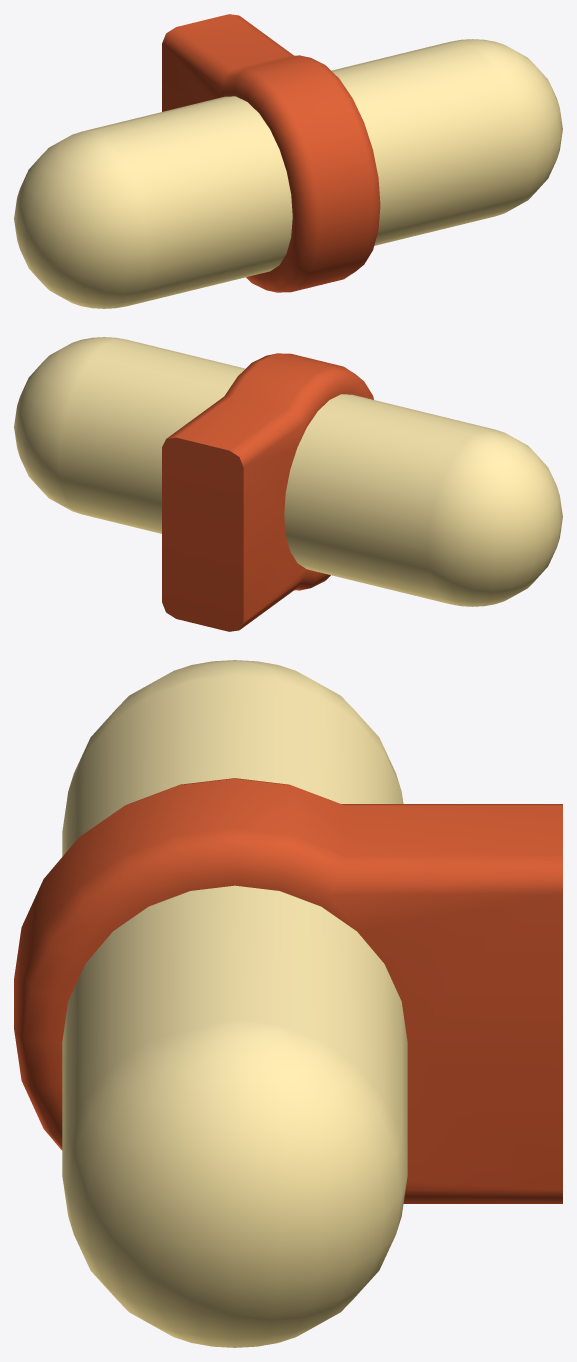
File: Light_16.glb
3 renders of one model, top to bottom at view 1: azimuth 30°, elevation 25°; view 2: azimuth 150°, elevation 25°; view 3: azimuth 270°, elevation 25°, orthographic. The views are drawn at different scales.
Visible parts, largest first — view 1: Light_16; view 2: Light_16; view 3: Light_16.
Boxes of the visible parts, left/top/right/bottom form: Light_16: left=14, top=14, right=562, bottom=308; Light_16: left=14, top=337, right=562, bottom=631; Light_16: left=14, top=660, right=562, bottom=1347.
Bounding box in the file's own units: 0.3437 × 0.1311 × 0.1628.
Materials: 1 (1 with a texture image).
